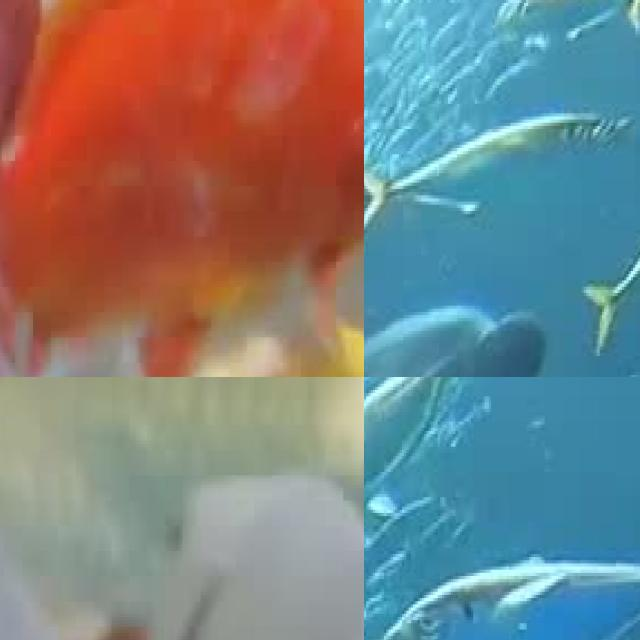fish: (0, 0, 364, 377), (0, 500, 364, 640)
